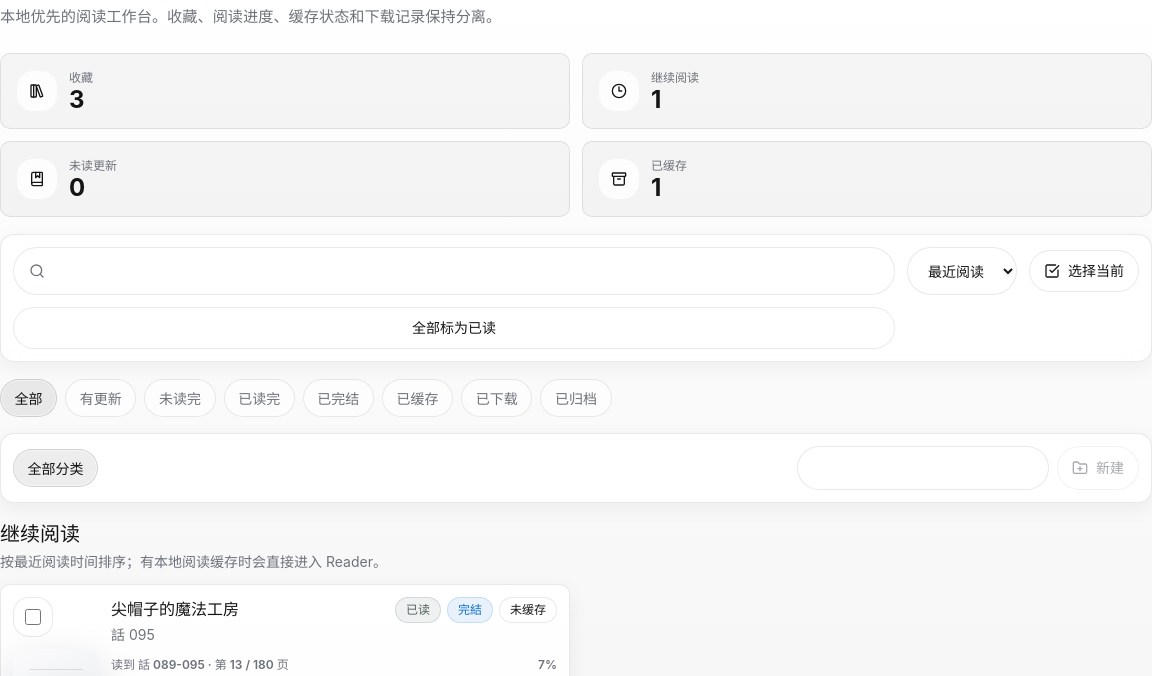
Scenario: ShelfPage › exposes read-completed, series-completed, and downloaded shelf filters in the UI
Click the button "已读完" at (259, 398), box x1=224 y1=379 x2=295 y2=417
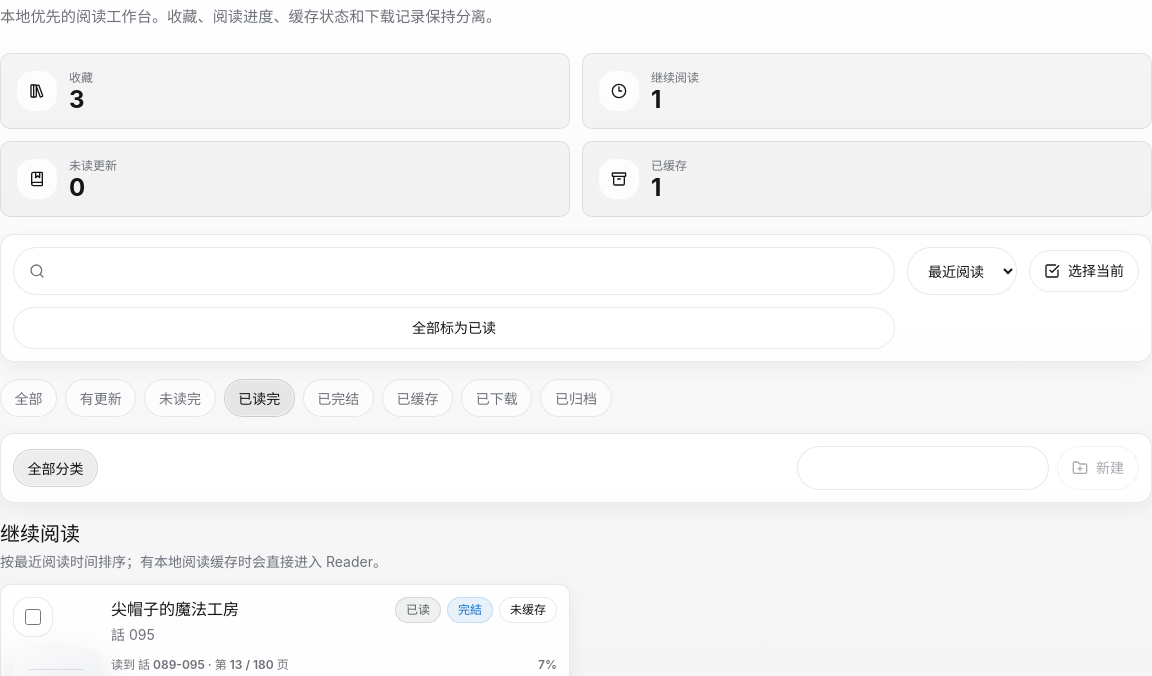
Check: the text "地下忍者" is not shown
Click the button "已完结" at (338, 398), box x1=303 y1=379 x2=374 y2=417
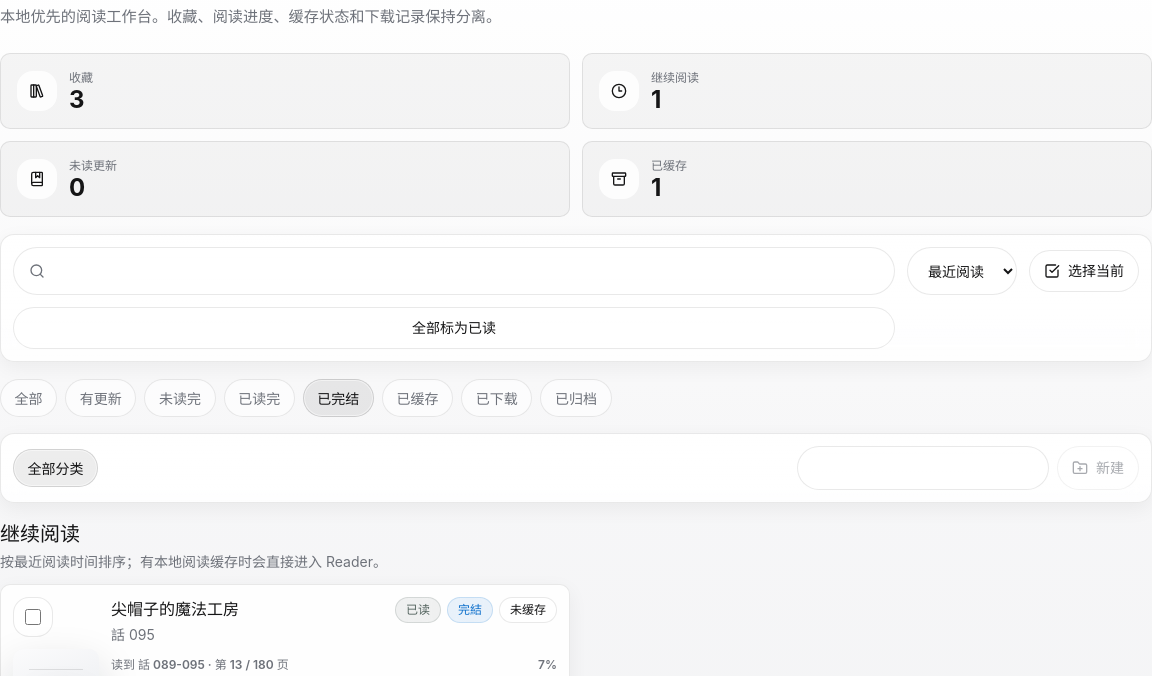
Check: the text "GRAND BLUE 碧蓝之海" is not shown
Click the button "已下载" at (497, 398), box x1=461 y1=379 x2=532 y2=417
(page scrolled)
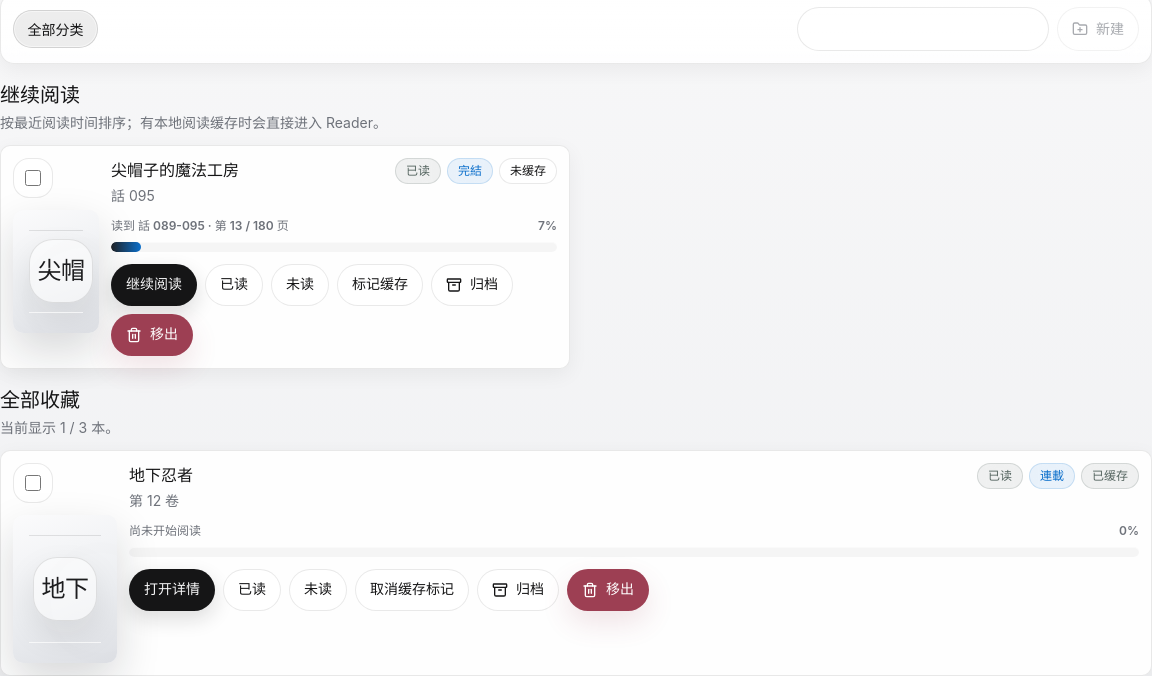
Check: the link "地下忍者" is shown, box x1=129 y1=463 x2=193 y2=487
